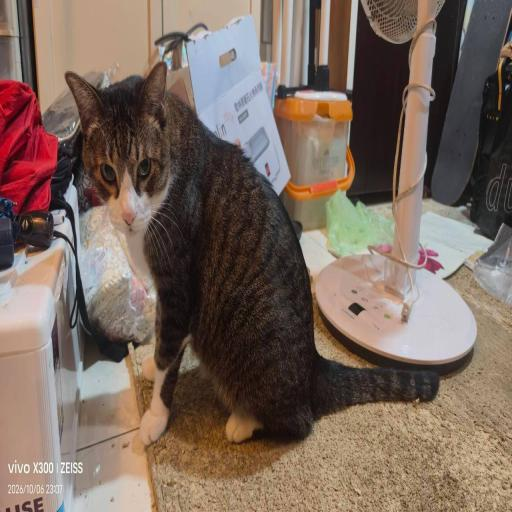cat: (97, 121, 332, 441)
